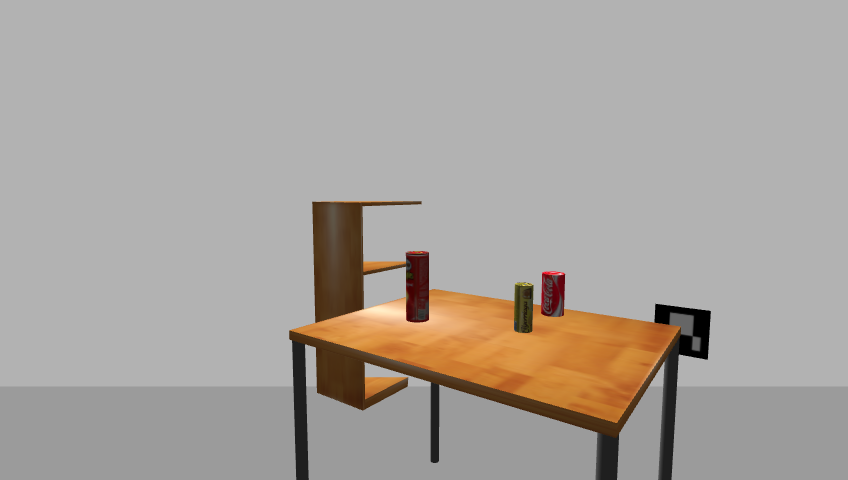aruco marker: (648, 302, 715, 361)
biscuits pack: (513, 282, 535, 334)
bookshelf: (307, 197, 425, 417)
coke can: (540, 271, 567, 318)
dinner table: (282, 289, 689, 480)
pringles can: (403, 250, 431, 324)
